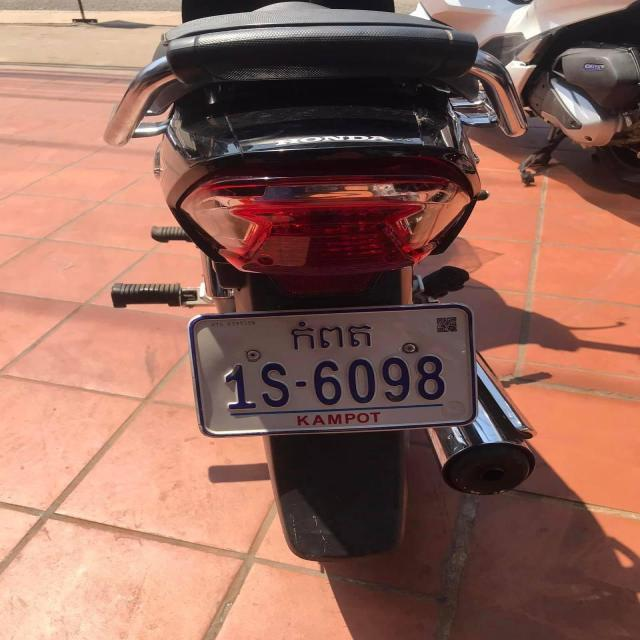Kampot: (290, 320, 372, 351)
